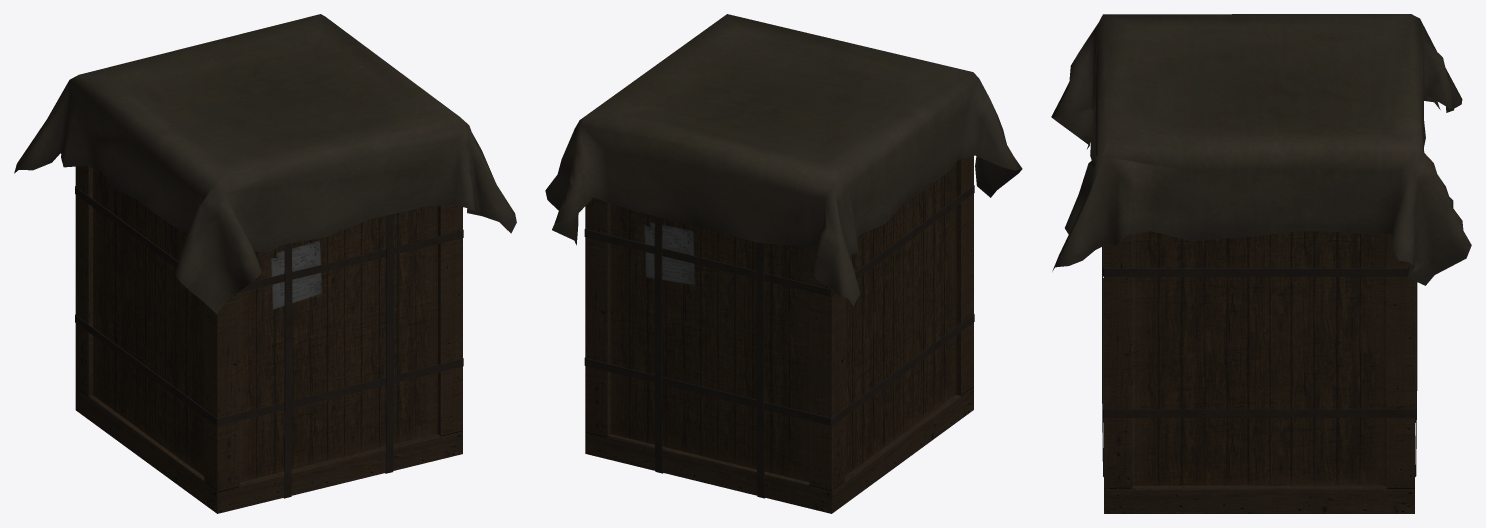
Rendered from wooden_crate_hx_2_2.obj.
3 views of the same model, side by side, from view 1: azimuth 30°, elevation 25°; view 2: azimuth 150°, elevation 25°; view 3: azimuth 270°, elevation 25° (orthographic). The views are drawn at different scales.
Visible parts, largest first — view 1: wooden_crate_hx_2_2; view 2: wooden_crate_hx_2_2; view 3: wooden_crate_hx_2_2.
Boxes of the visible parts, <box> form: wooden_crate_hx_2_2: <box>14,14,516,513</box>; wooden_crate_hx_2_2: <box>545,14,1022,513</box>; wooden_crate_hx_2_2: <box>1051,14,1471,513</box>.
Size of the model in its own units: 1.89 by 1.84 by 1.89.
